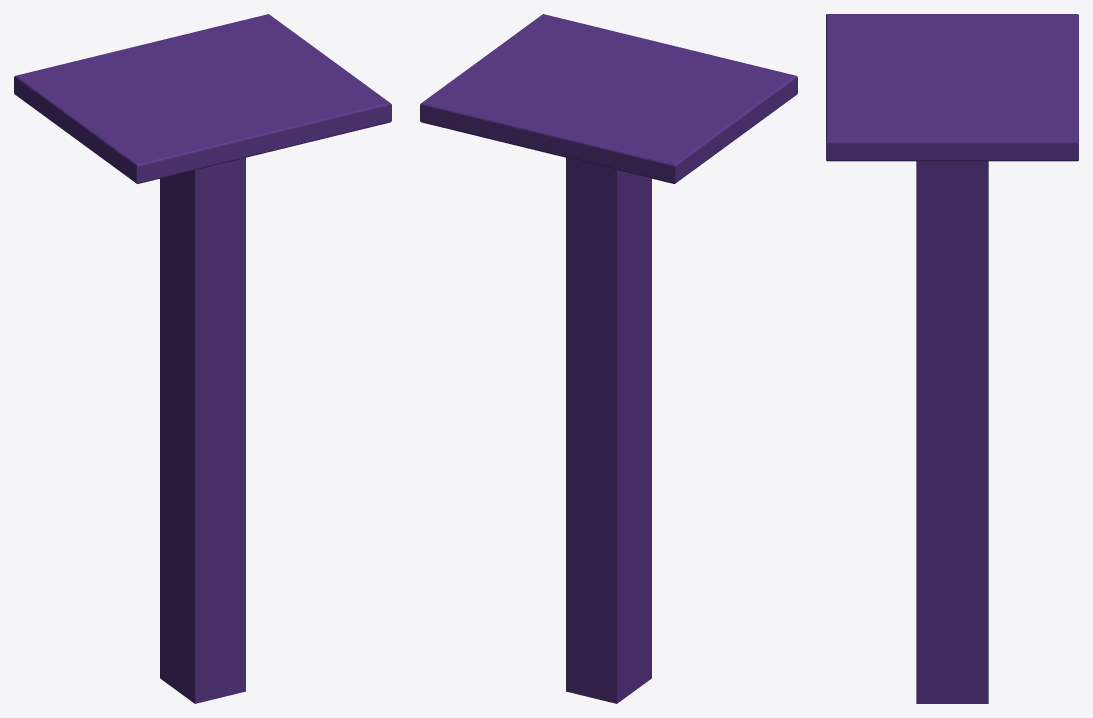
File: Platform.fbx
The picture shows the model from 3 angles, left to right: view 1: azimuth 30°, elevation 25°; view 2: azimuth 150°, elevation 25°; view 3: azimuth 270°, elevation 25°; orthographic projection. The views are drawn at different scales.
Parts seen in each view (by area): view 1: platform.001; view 2: platform.001; view 3: platform.001.
Boxes of the visible parts, left/top/right/bottom form: platform.001: left=14, top=14, right=391, bottom=703; platform.001: left=420, top=14, right=797, bottom=703; platform.001: left=826, top=14, right=1078, bottom=703.
Bounding box in the file's own units: 1.34 × 3 × 1.12.
Materials: 1 (1 with a texture image).
